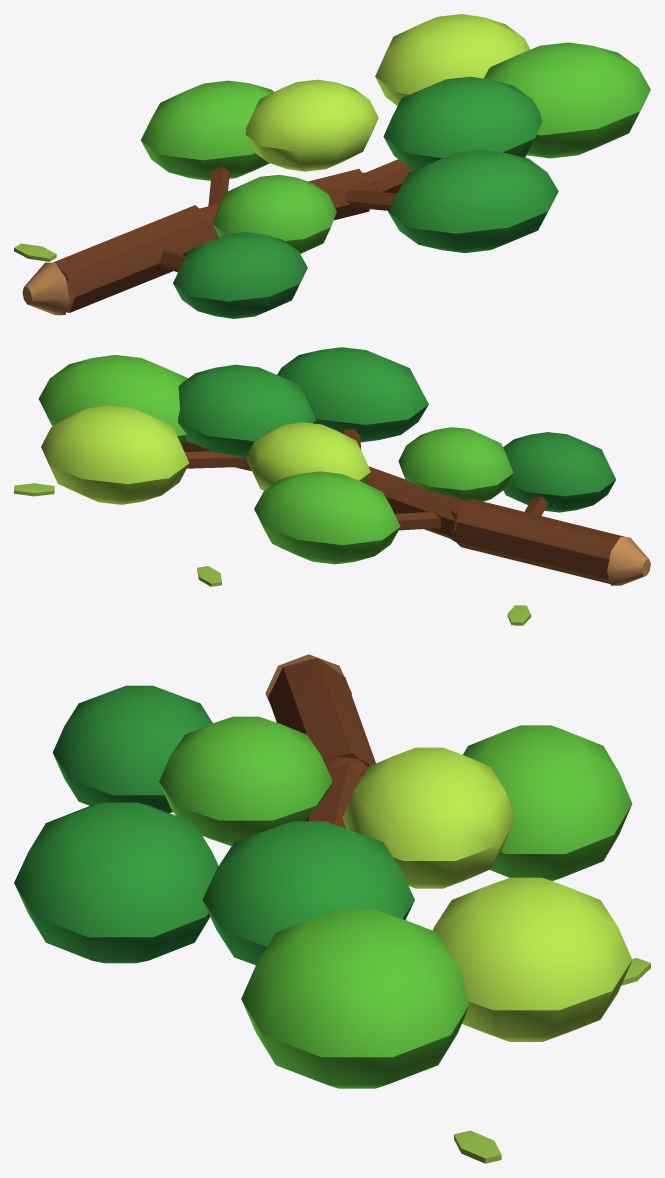
The model's file is hz_branch.glb.
The picture shows the model from 3 angles, top to bottom: view 1: azimuth 30°, elevation 25°; view 2: azimuth 150°, elevation 25°; view 3: azimuth 270°, elevation 25°; orthographic projection. The views are drawn at different scales.
Visible parts, largest first — view 1: hz_branch; view 2: hz_branch; view 3: hz_branch.
Part boxes in pixels (x1,y1,x2,y2): hz_branch: [14, 14, 650, 318]; hz_branch: [14, 347, 650, 625]; hz_branch: [14, 654, 650, 1163].
Size of the model in its own units: 2.25 by 0.4399 by 1.32.
